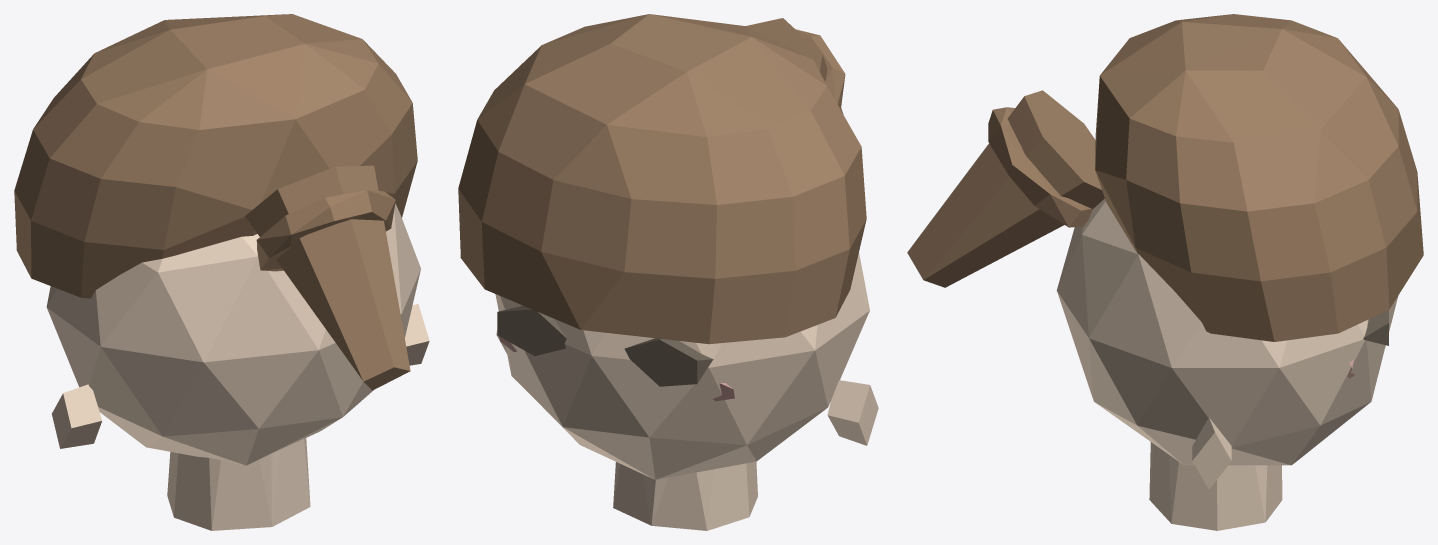
The model's file is 19-NPCs_cabeza_redonda.glb.
The picture shows the model from 3 angles, left to right: view 1: azimuth 30°, elevation 25°; view 2: azimuth 150°, elevation 25°; view 3: azimuth 270°, elevation 25°; orthographic projection.
Parts seen in each view (by area): view 1: SM_Cab_M_CabA_Cabello, SM_Cab_M_CabA_Piel, SM_Cab_M_CabA_Cabello_CabA_Cinta; view 2: SM_Cab_M_CabA_Cabello, SM_Cab_M_CabA_Piel, SM_Cab_M_CabA_Ojos, SM_Cab_M_CabA_Cabello_CabA_Cinta; view 3: SM_Cab_M_CabA_Cabello, SM_Cab_M_CabA_Piel, SM_Cab_M_CabA_Cabello_CabA_Cinta, SM_Cab_M_CabA_Ojos.
Boxes of the visible parts, x1=… form: SM_Cab_M_CabA_Cabello: x1=14, y1=14, x2=417, y2=298; SM_Cab_M_CabA_Piel: x1=46, y1=203, x2=429, y2=530; SM_Cab_M_CabA_Cabello_CabA_Cinta: x1=245, y1=165, x2=410, y2=390; SM_Cab_M_CabA_Cabello: x1=458, y1=14, x2=866, y2=344; SM_Cab_M_CabA_Piel: x1=495, y1=253, x2=878, y2=530; SM_Cab_M_CabA_Ojos: x1=497, y1=305, x2=713, y2=386; SM_Cab_M_CabA_Cabello_CabA_Cinta: x1=746, y1=18, x2=845, y2=114; SM_Cab_M_CabA_Cabello: x1=1095, y1=14, x2=1423, y2=341; SM_Cab_M_CabA_Piel: x1=1056, y1=198, x2=1398, y2=530; SM_Cab_M_CabA_Cabello_CabA_Cinta: x1=907, y1=90, x2=1104, y2=287; SM_Cab_M_CabA_Ojos: x1=1363, y1=310, x2=1388, y2=345.
Bounding box in the file's own units: 0.312 × 0.3689 × 0.3799.
